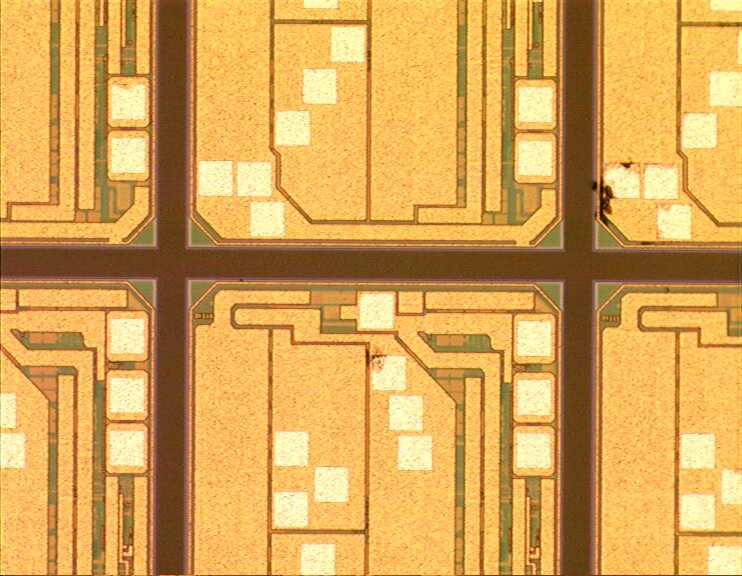PO CONTAMINATION: (360, 155, 680, 375)
